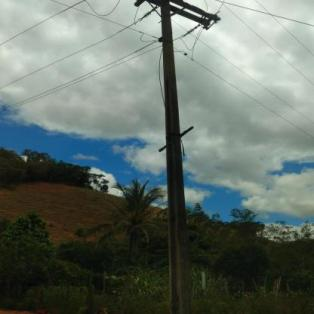Poste: (159, 1, 193, 314)
